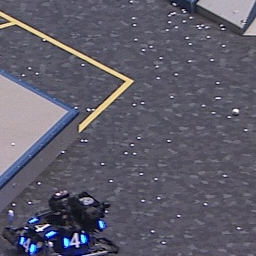Blue: (26, 217, 57, 239), (63, 231, 88, 249), (18, 236, 37, 256)
Robot: (2, 190, 124, 256)
